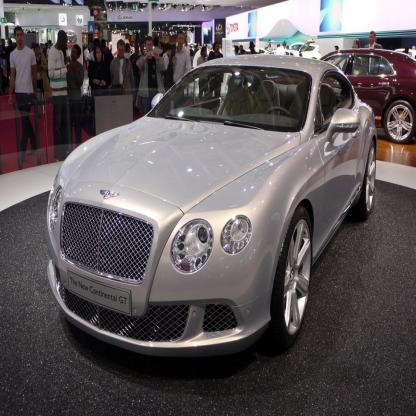Car: (45, 55, 379, 359), (319, 49, 416, 144), (272, 44, 322, 61), (246, 48, 270, 54)
